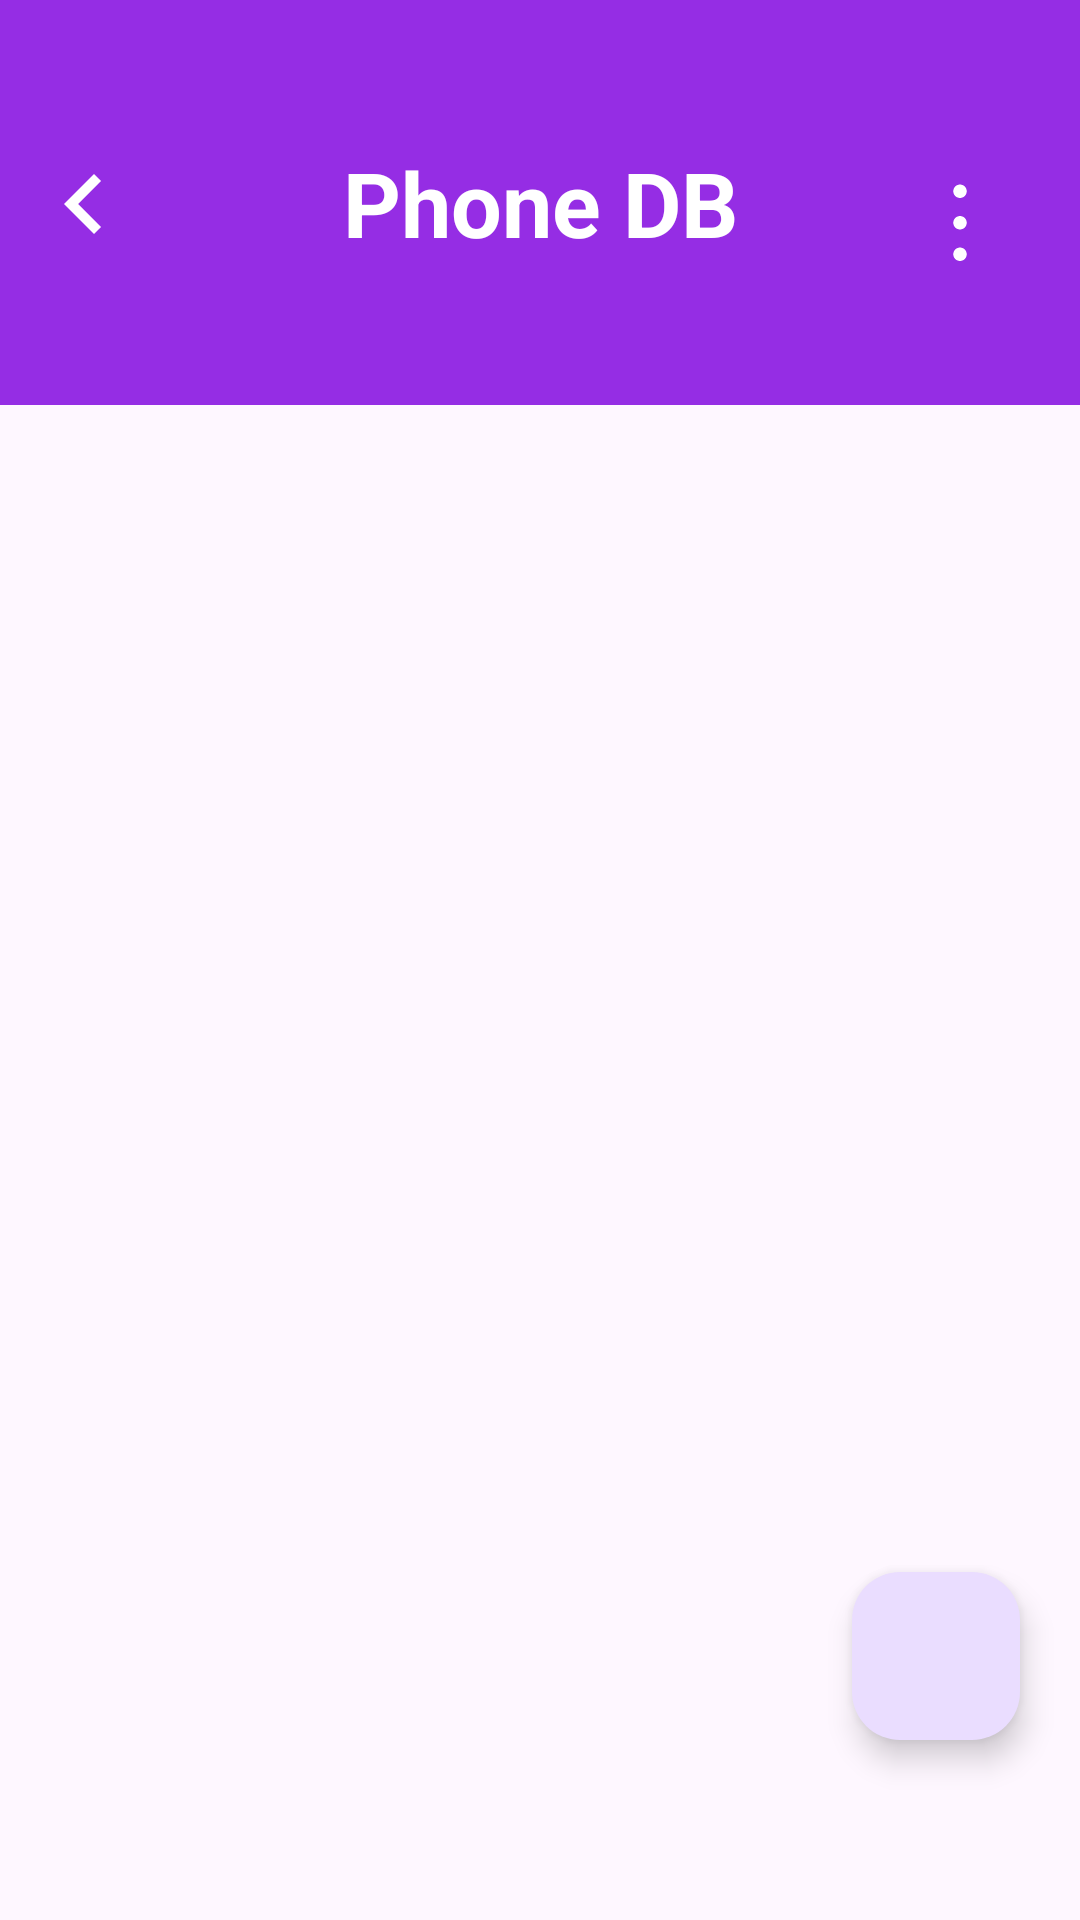

Where icons sit on this 1080w x 1920h app screen, as BBox(x1, y1, x2, y2):
Więcej opcji: BBox(953, 184, 967, 261)
